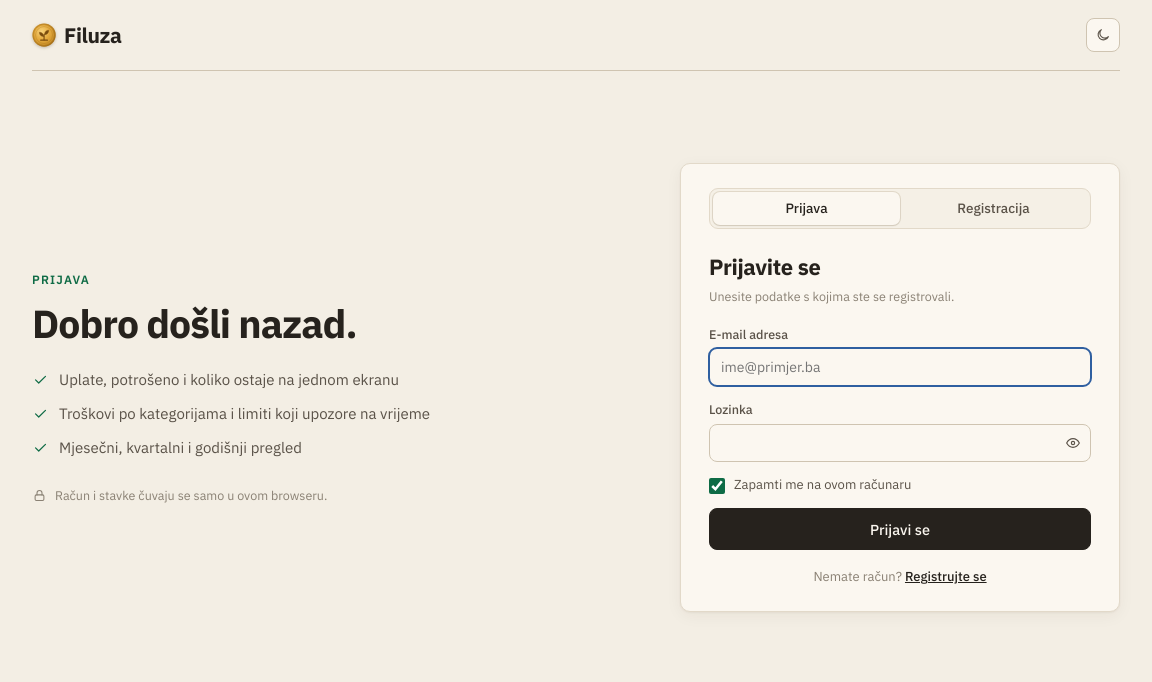
Test: prijava › prelazak na registraciju zadržava upisani e-mail
Type "amila@primjer.ba" into the field labelled "E-mail adresa".
click(900, 367); type("amila@primjer.ba")  # box [709, 348, 1091, 386]
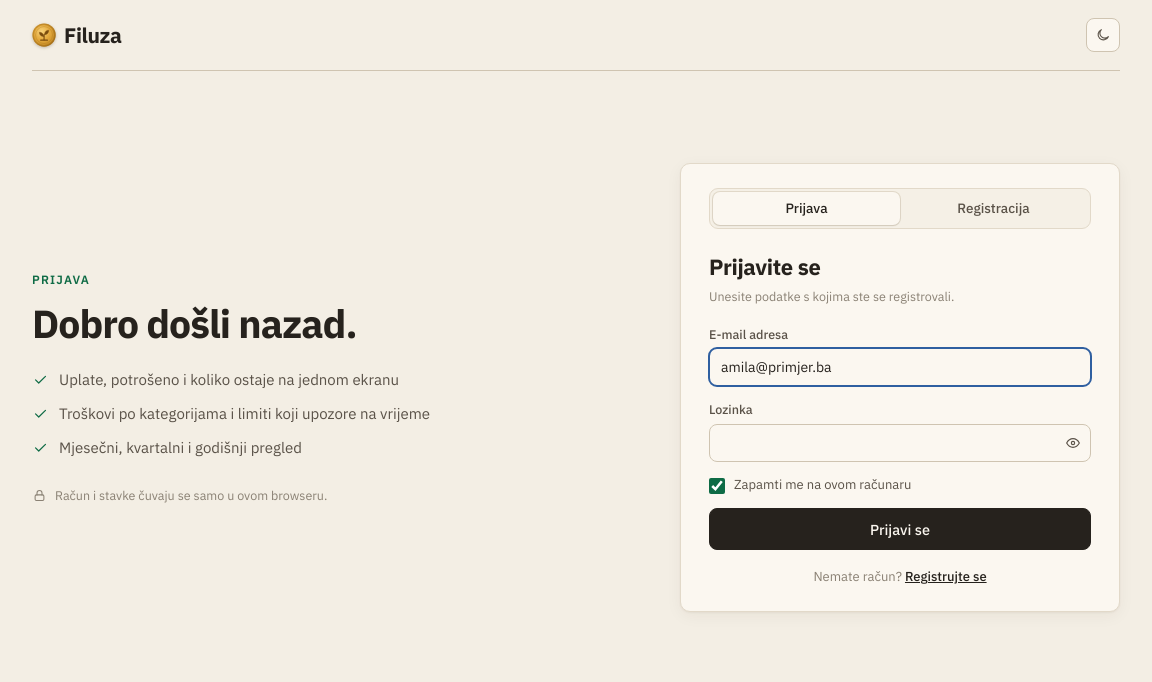
Click the link "Registracija".
click(994, 208)  # box [957, 199, 1030, 217]
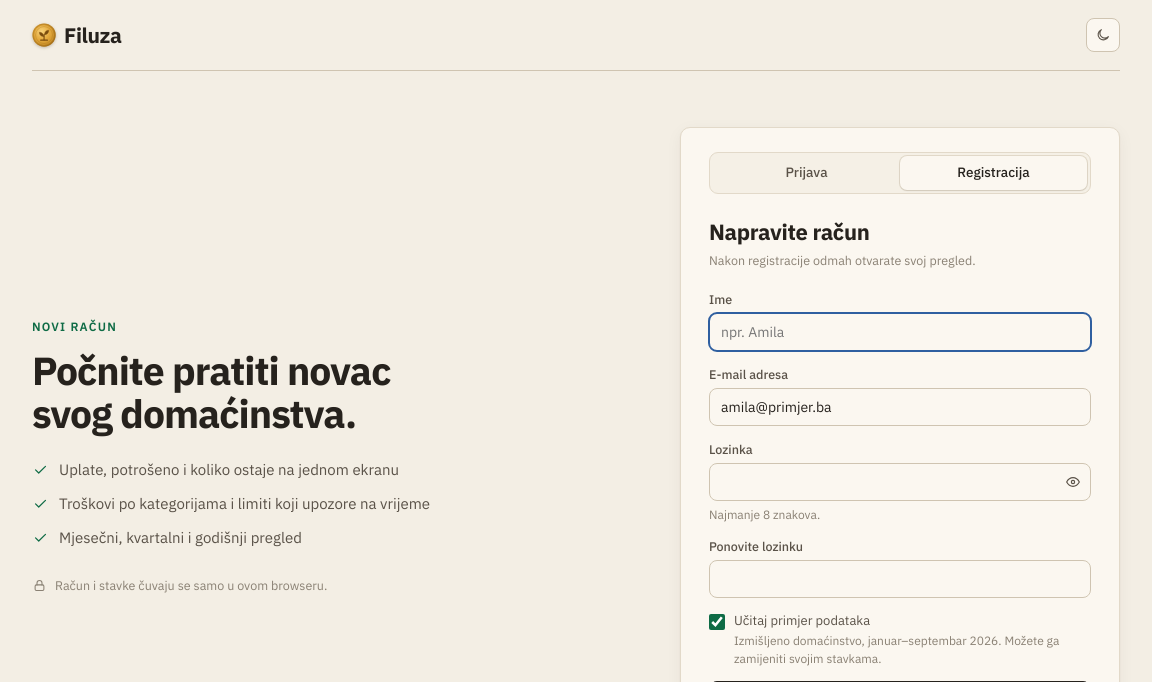
Expected: the field labelled "Ime" is shown, [709, 313, 1091, 351]
